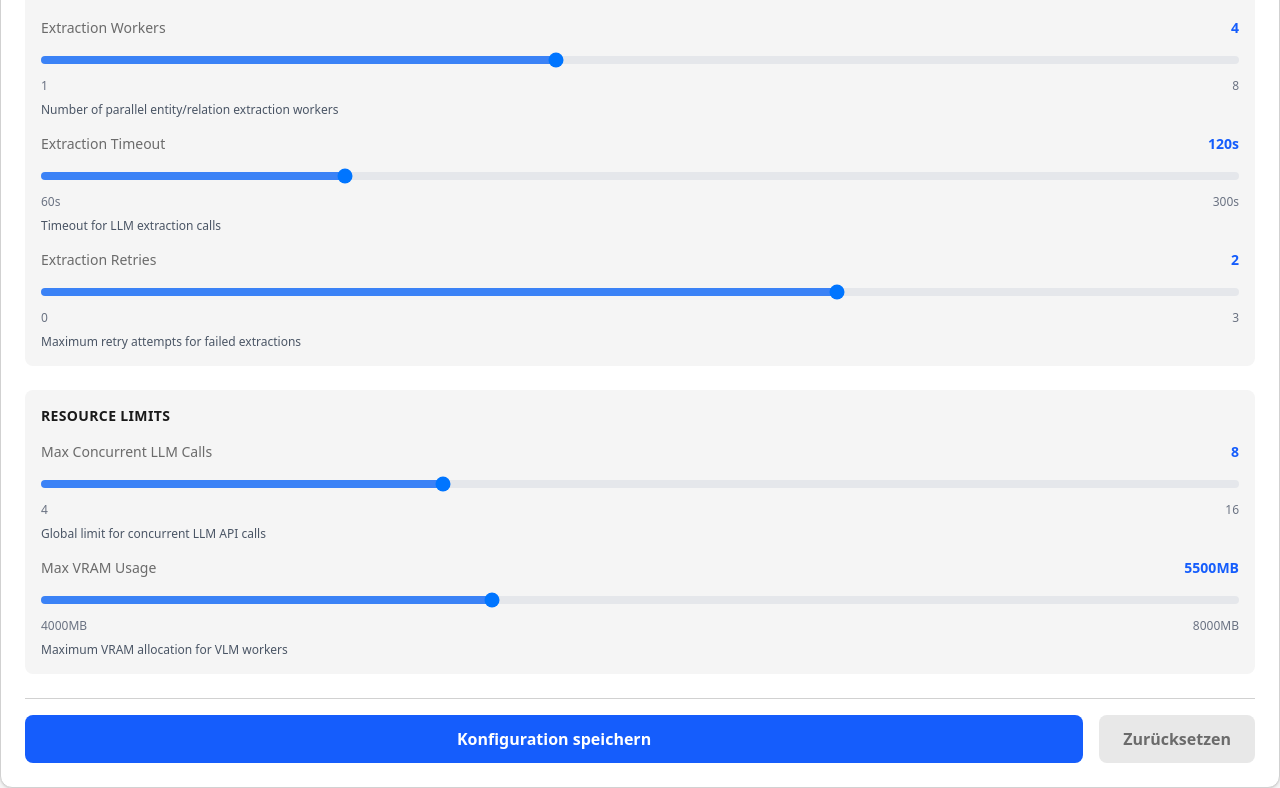
Test: PipelineConfigPanel › Configuration Management › shows success message after successful save
(page scrolled)
What coordinates should you click on to do the following:
click the button with test id "config-save-button"
I would click on:
 (554, 739)
Its box is [25,715,1083,763].
(page scrolled)
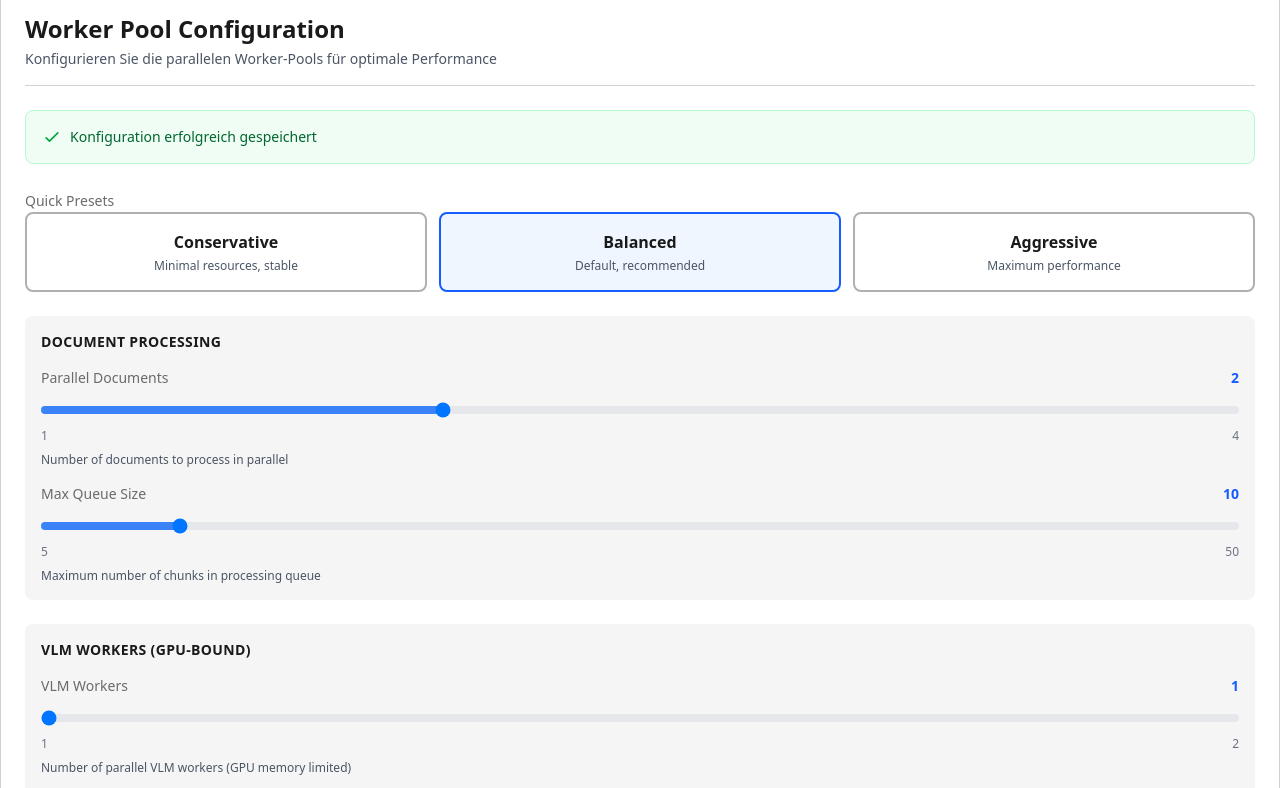
Now the element with test id "config-success" is shown, box [25,110,1255,164]
Now the text "Konfiguration erfolgreich gespeichert" is shown, box [70,127,317,147]
